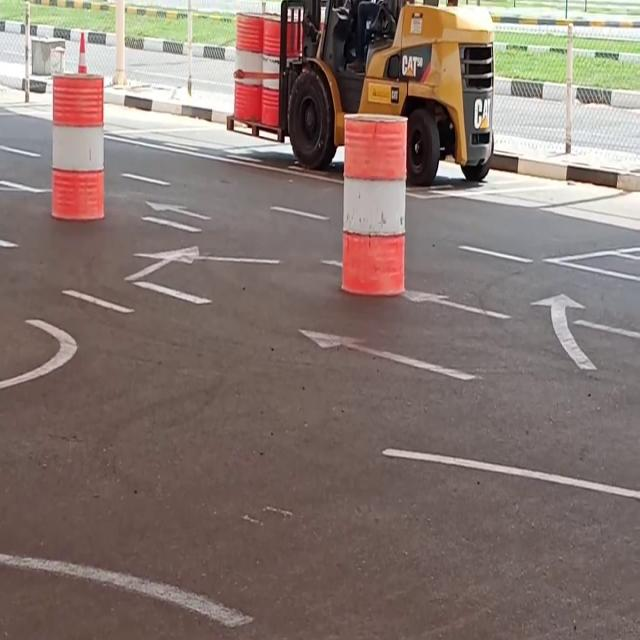Chariot elevateur: (269, 0, 505, 195)
